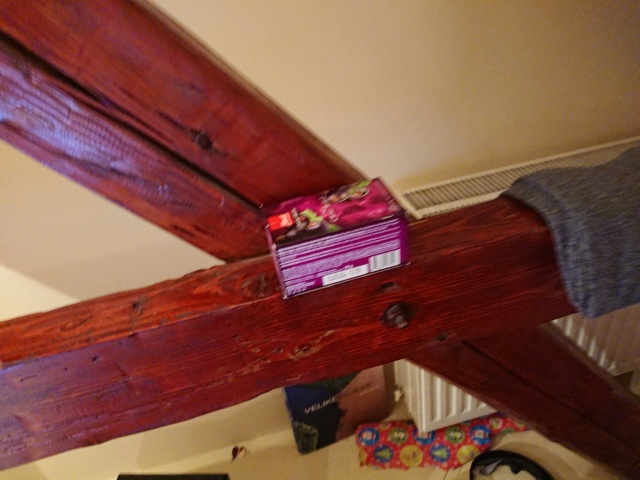Franck Black Currant Tea 60g: (255, 173, 415, 303)
